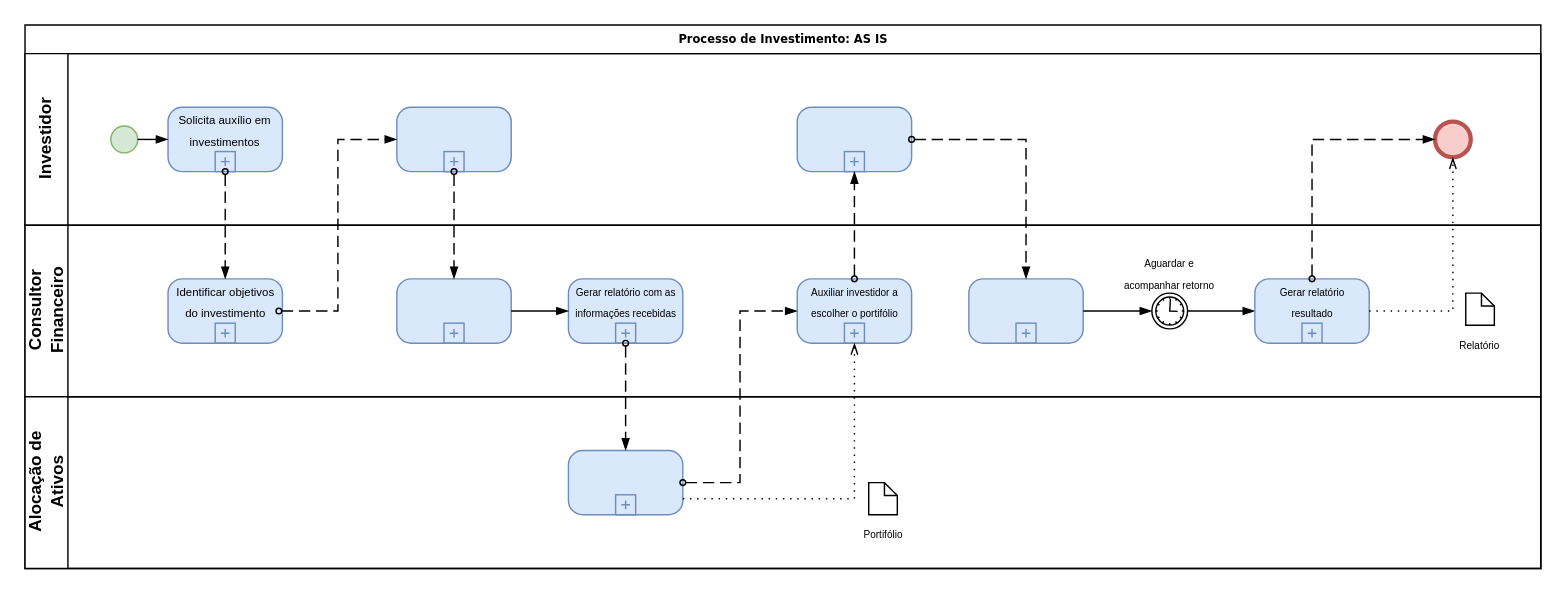
Image size: 1566x593. Some labels were removed from this diagram. Each missing label, with the centre of its shape:
Avaliar situação financeira e objetivos: point (453, 310)
Escolher qual método será seguido: point (854, 139)
Fornecer portifólio com as alocações de ativos: point (625, 482)
Informar objetivos e informações financeiras: point (453, 139)
Investir o ativo solicitado: point (1025, 310)
